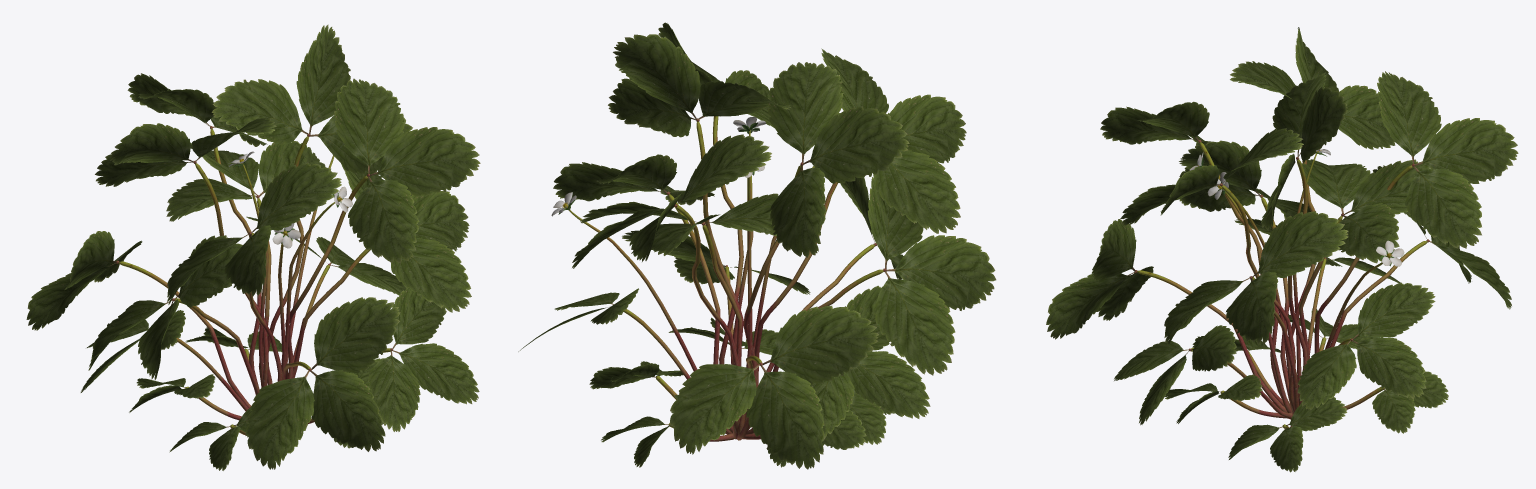
3 views of the same model, side by side, from view 1: azimuth 30°, elevation 25°; view 2: azimuth 150°, elevation 25°; view 3: azimuth 270°, elevation 25° (orthographic). The views are drawn at different scales.
Parts seen in each view (by area): view 1: leaf1, branch1, flower1; view 2: leaf1, branch1, flower1; view 3: leaf1, branch1, flower1.
Boxes of the visible parts, bbox=[...] form: leaf1: bbox=[26, 24, 480, 470]; branch1: bbox=[116, 125, 392, 435]; flower1: bbox=[228, 151, 352, 248]; leaf1: bbox=[518, 22, 996, 469]; branch1: bbox=[562, 116, 886, 441]; flower1: bbox=[551, 117, 765, 216]; leaf1: bbox=[1046, 27, 1518, 472]; branch1: bbox=[1134, 140, 1429, 428]; flower1: bbox=[1189, 148, 1404, 266].
Size of the model in its own units: 0.5561 by 0.6171 by 0.5228.
